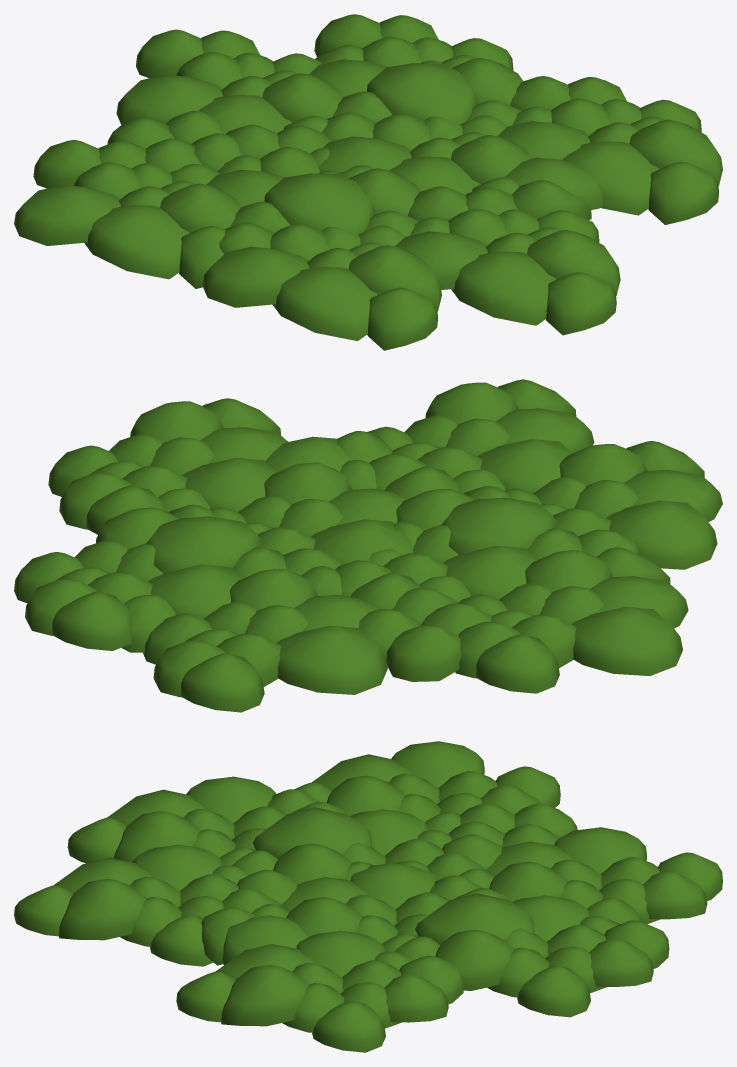
The picture shows the model from 3 angles, top to bottom: view 1: azimuth 30°, elevation 25°; view 2: azimuth 150°, elevation 25°; view 3: azimuth 270°, elevation 25°; orthographic projection. The views are drawn at different scales.
Parts seen in each view (by area): view 1: pSphere102; view 2: pSphere102; view 3: pSphere102.
Boxes of the visible parts, box(x1,y1,x2,y2) form: pSphere102: box(14, 14, 722, 350); pSphere102: box(14, 379, 722, 712); pSphere102: box(14, 741, 722, 1052).
Bounding box in the file's own units: 68.23 × 6.72 × 71.58.
